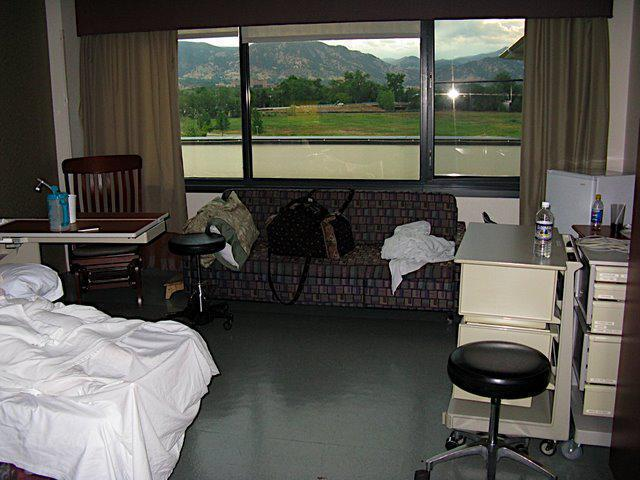Cama: (1, 308, 206, 479)
Ventana: (176, 32, 521, 184)
